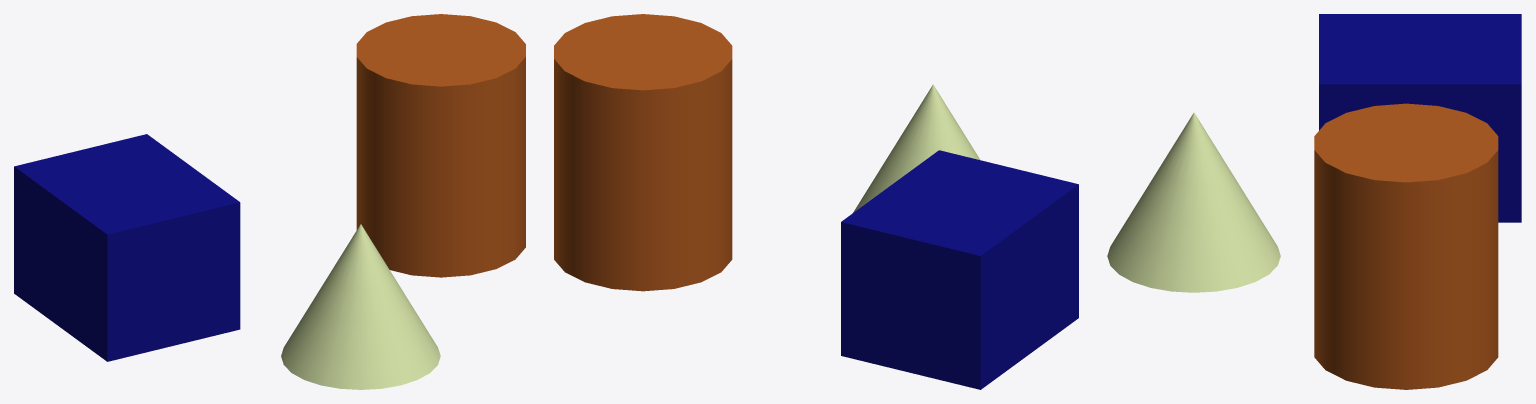
File: Mixed.obj
3 views of the same model, side by side, from view 1: azimuth 30°, elevation 25°; view 2: azimuth 150°, elevation 25°; view 3: azimuth 270°, elevation 25° (orthographic). The views are drawn at different scales.
Visible parts, largest first — view 1: Cylinder001, Box001, Cone001; view 2: Cylinder001, Box001, Cone001; view 3: Cylinder001, Box001, Cone001.
Boxes of the visible parts, bbox=[...] form: Cylinder001: bbox=[356, 14, 525, 277]; Box001: bbox=[14, 134, 240, 361]; Cone001: bbox=[281, 224, 440, 389]; Cylinder001: bbox=[554, 14, 732, 291]; Box001: bbox=[841, 150, 1078, 389]; Cone001: bbox=[853, 84, 980, 212]; Cylinder001: bbox=[1314, 103, 1498, 389]; Box001: bbox=[1319, 14, 1521, 222]; Cone001: bbox=[1107, 112, 1280, 292].
Bounding box in the file's own units: 78.48 × 31.94 × 57.82.
